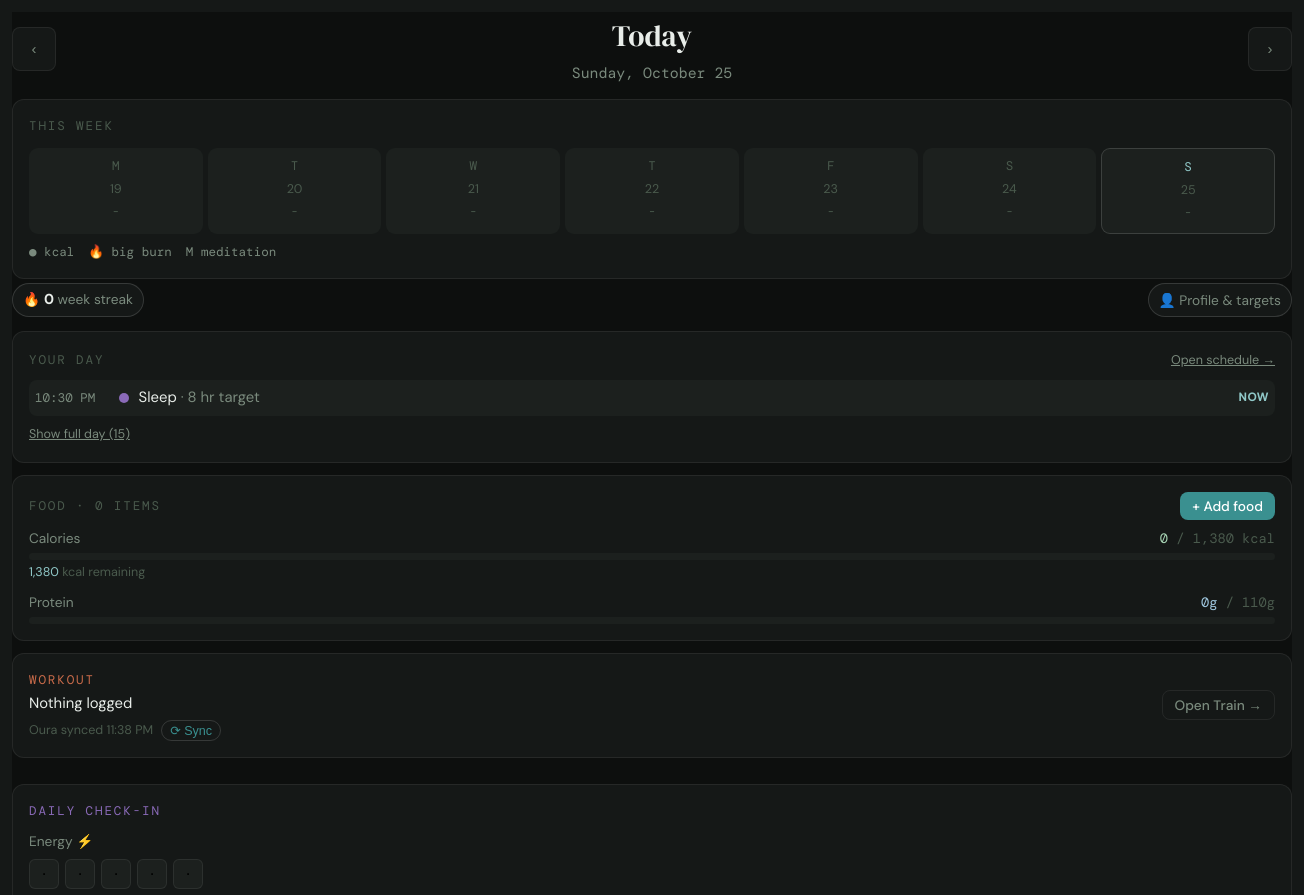
TodayTab — Oura workout sync › manual sync forces a fresh import even inside the auto-import window
Expected: the text "Oura synced 11:38 PM" is shown, top-left (29, 720), bottom-right (153, 740)
Expected: the text "Nothing logged" is shown, top-left (29, 693), bottom-right (132, 713)
Click the button with aria-label "Sync workouts from Oura" at (191, 730), box top-left (161, 720), bottom-right (221, 741)
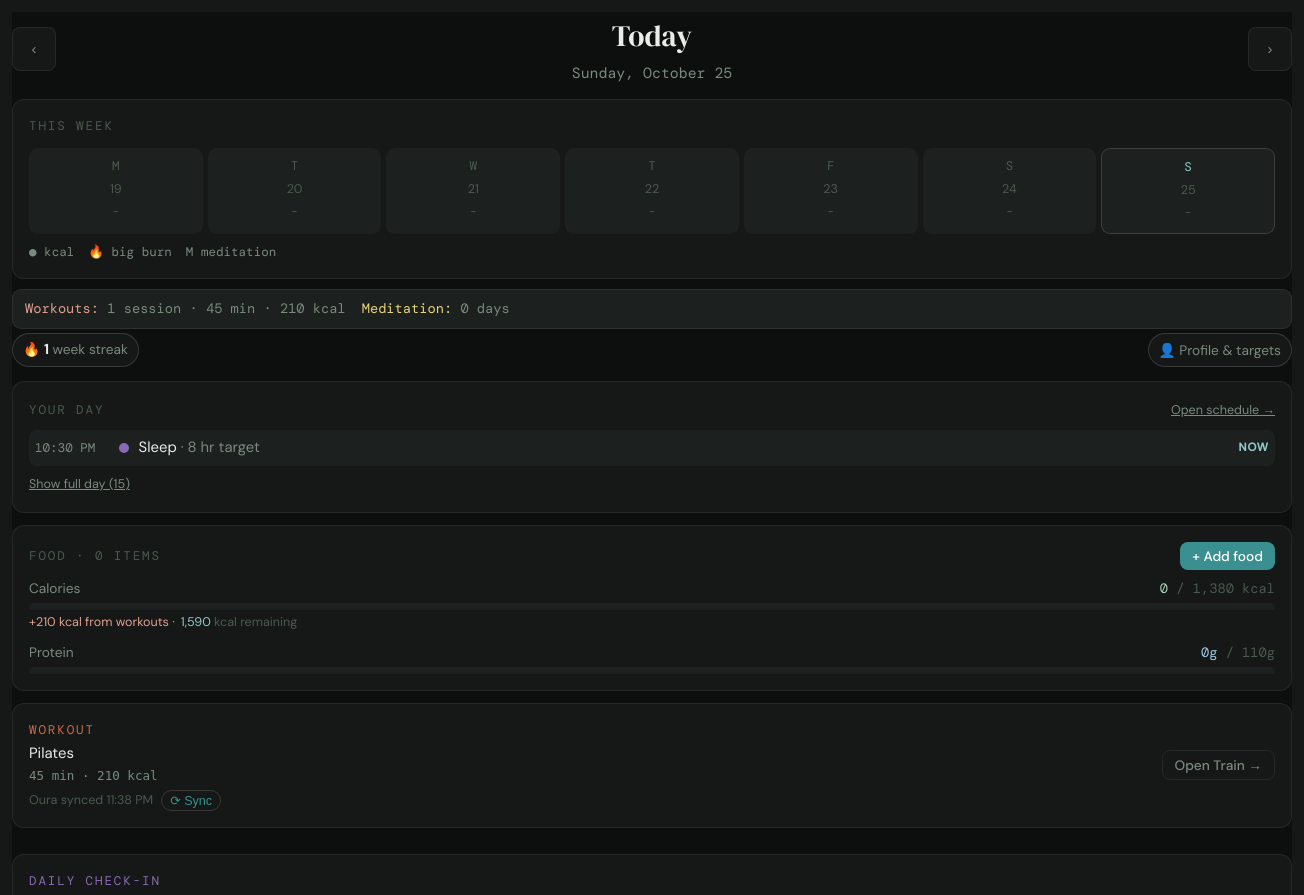
Now the text "45 min · 210 kcal" is shown, box top-left (29, 768), bottom-right (158, 783)
